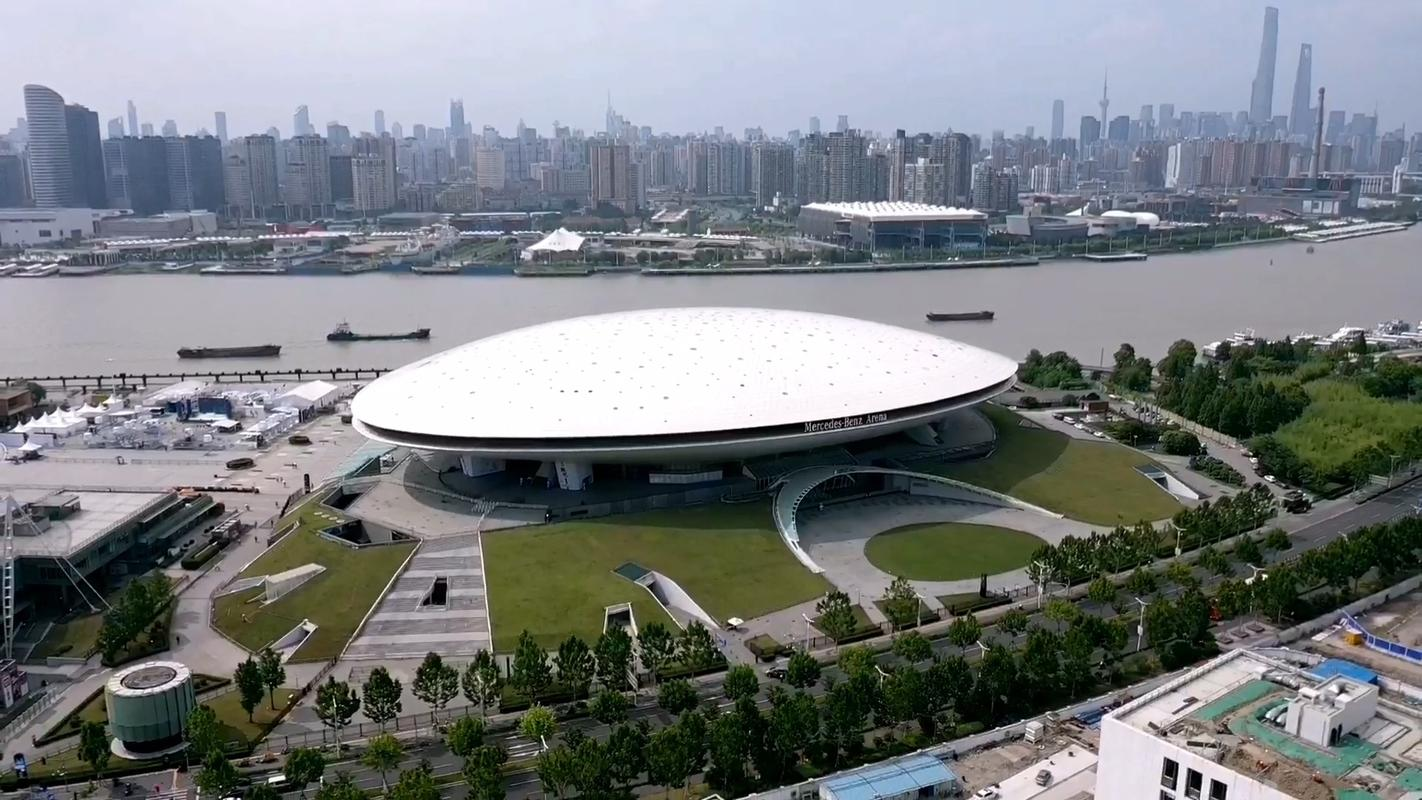buildings: (366, 297, 996, 495), (22, 97, 118, 237), (196, 124, 298, 237), (433, 97, 500, 200), (796, 117, 868, 202), (1166, 119, 1239, 199), (351, 134, 418, 219), (924, 124, 976, 200), (588, 137, 636, 204)
